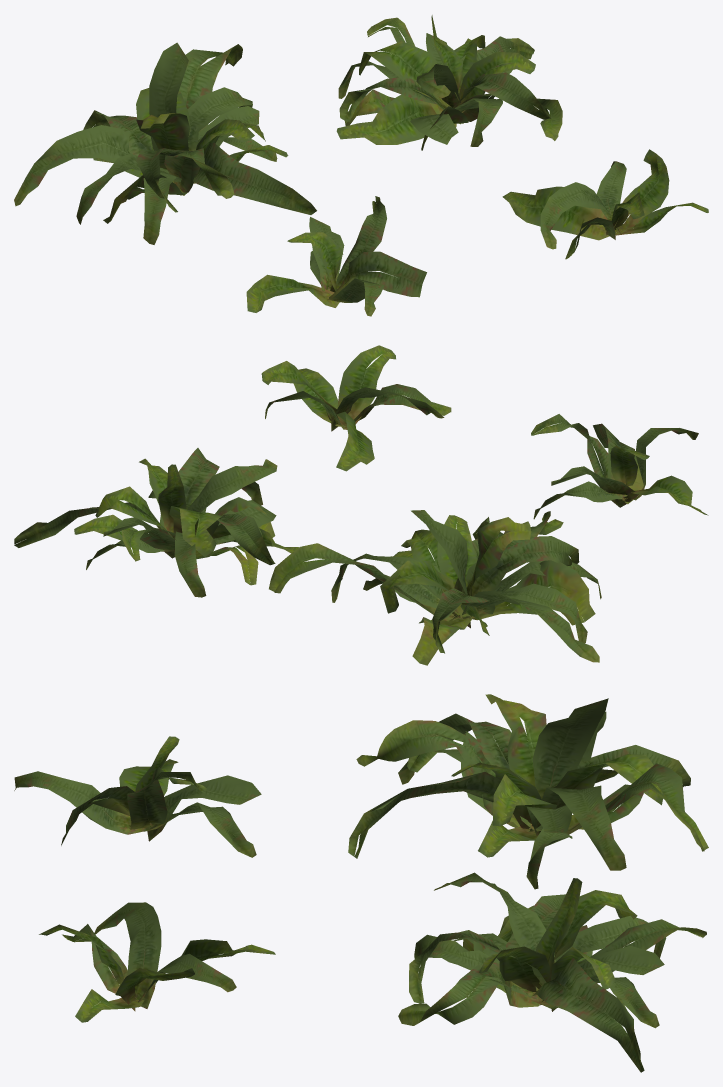
The model's file is fern.glb.
The picture shows the model from 3 angles, top to bottom: view 1: azimuth 30°, elevation 25°; view 2: azimuth 150°, elevation 25°; view 3: azimuth 270°, elevation 25°; orthographic projection. The views are drawn at different scales.
Parts seen in each view (by area): view 1: fern_02_b; view 2: fern_02_b; view 3: fern_02_b.
Boxes of the visible parts, <box> form: fern_02_b: <box>14,15,708,316</box>; fern_02_b: <box>14,345,708,665</box>; fern_02_b: <box>14,694,708,1072</box>.
Bounding box in the file's own units: 1.97 × 0.432 × 1.72.
Materials: 1 (1 with a texture image).
